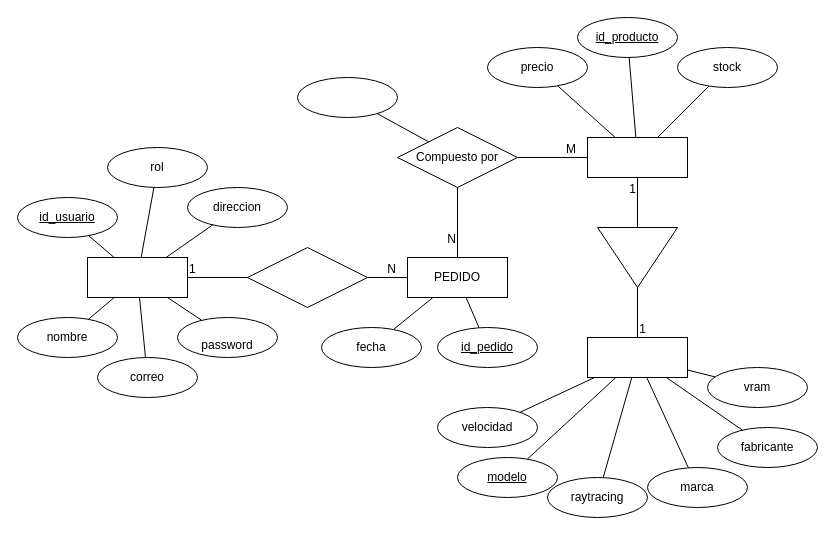
The diagram is 835 pixels wide and 535 high, and some of its shapes have lost their labels. Here are the shapes that lost their labels. From the top down, the centre of each, then its label:
point (347, 97): cantidad
point (637, 157): PRODUCTO
point (137, 277): USUARIO
point (307, 277): Realiza
point (637, 357): GPU
